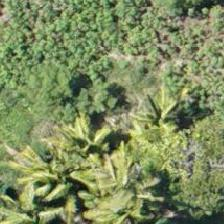coconut_tree: (111, 63, 201, 153), (12, 136, 102, 223), (83, 153, 173, 223), (0, 176, 69, 223)
